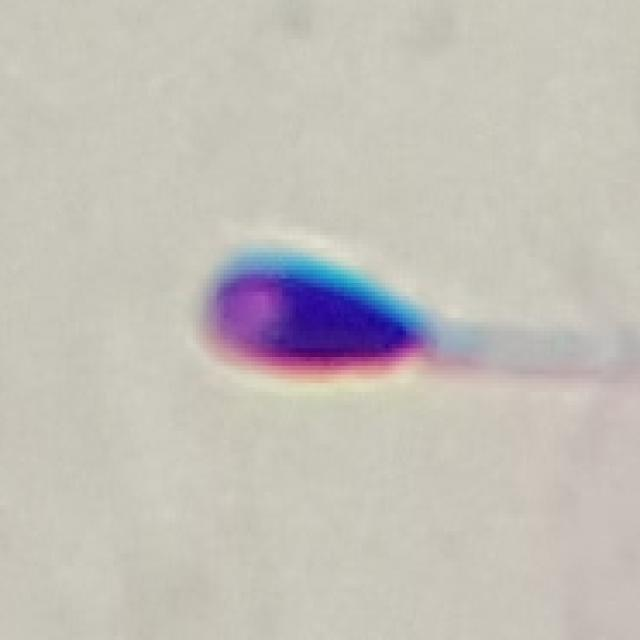abnormal sperm: (185, 224, 626, 403)
